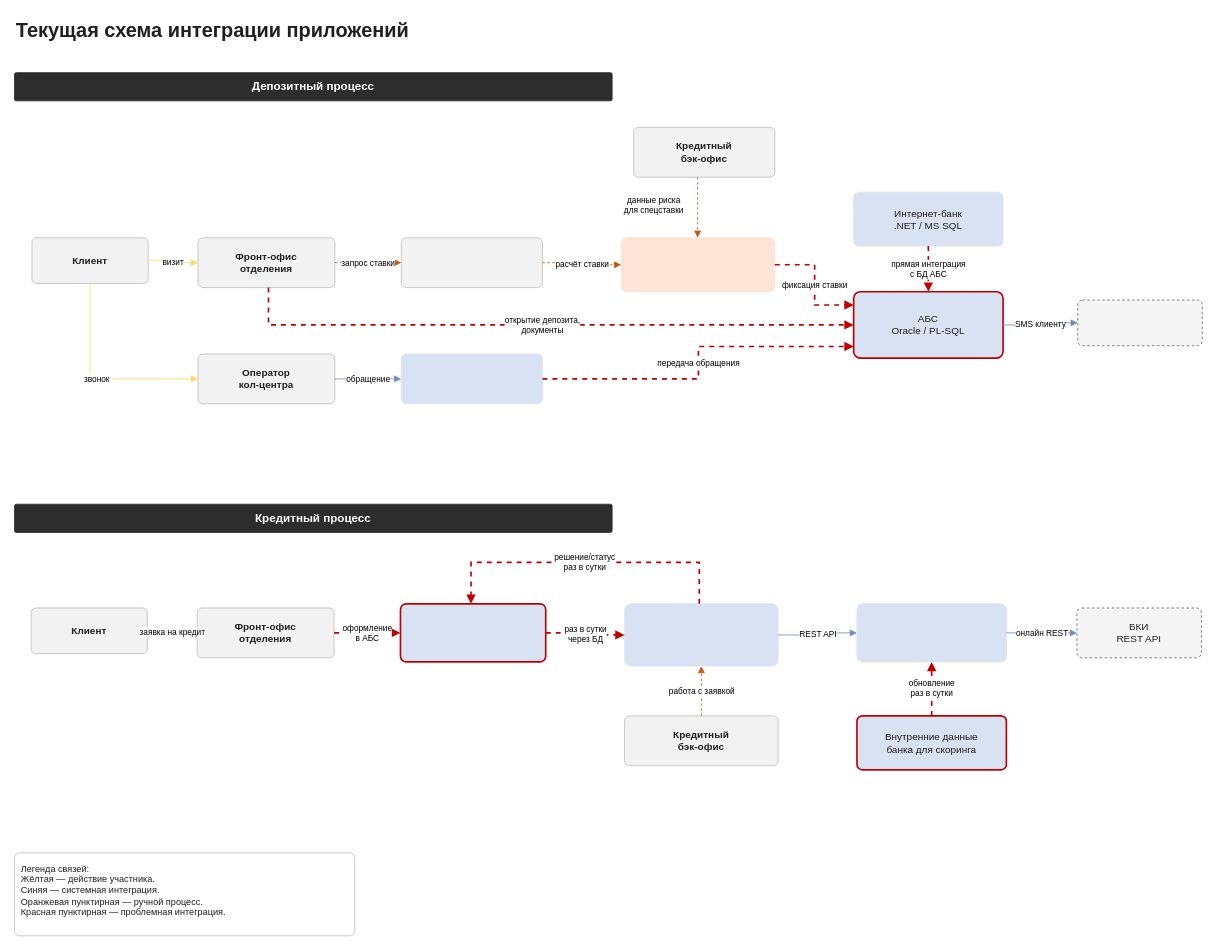
This 1217x950 diagram has some shape labels left out. Each missing label, with the box of its shape:
Excel + e-mail расчёт ставки: (620, 237, 775, 292)
SMS-шлюз: (1077, 299, 1202, 346)
АБС кредитная заявка: (399, 603, 546, 662)
Депозитный бэк-офис: (400, 237, 542, 288)
Кредитный конвейер Camunda: (624, 603, 778, 666)
Система кол-центра: (400, 353, 542, 404)
Скоринг Python / Flask: (856, 603, 1006, 662)
